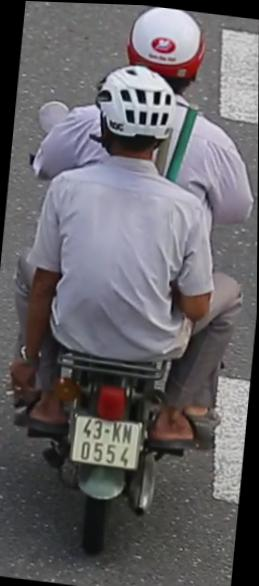LP: (67, 408, 147, 473)
helmet: (87, 60, 183, 176), (121, 4, 215, 95)
